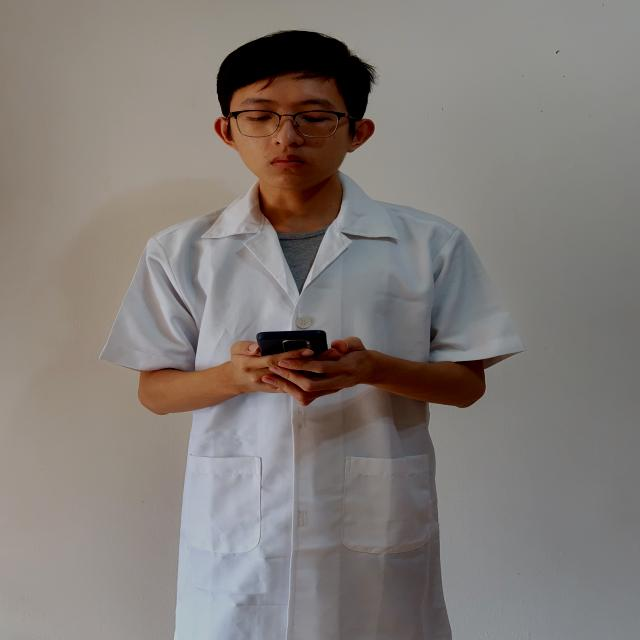person_with_labcoat: (100, 31, 522, 640)
